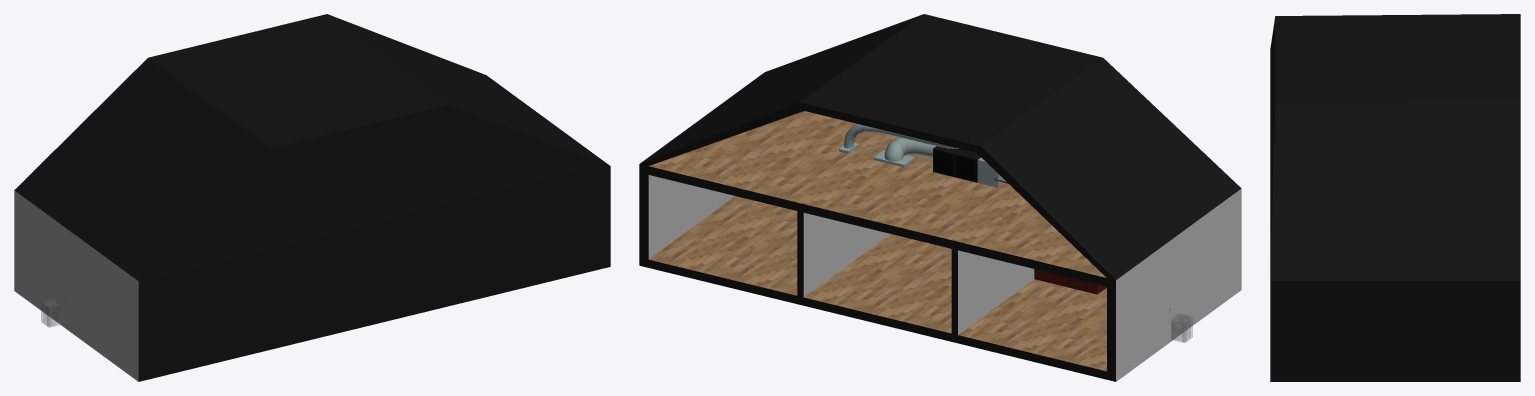
Rendered from House_final2.glb.
The picture shows the model from 3 angles, left to right: view 1: azimuth 30°, elevation 25°; view 2: azimuth 150°, elevation 25°; view 3: azimuth 270°, elevation 25°; orthographic projection.
Parts seen in each view (by area): view 1: walls, acCondenser; view 2: walls, flex_2, bed_2, flex_1, acCondenser, GasFurnace_Base, Box001; view 3: walls.
Boxes of the visible parts, x1,y1,x2,y2 form: walls: [14, 14, 610, 381]; acCondenser: [41, 298, 61, 327]; walls: [639, 14, 1241, 381]; flex_2: [884, 137, 935, 161]; bed_2: [1034, 269, 1106, 294]; flex_1: [844, 124, 959, 148]; acCondenser: [1171, 314, 1192, 342]; GasFurnace_Base: [933, 146, 980, 182]; Box001: [977, 157, 1005, 187]; walls: [1270, 14, 1520, 381].
Size of what is drawn, in the model's own units: 17.65 by 6.86 by 7.7.
13 materials, 3 textured.
